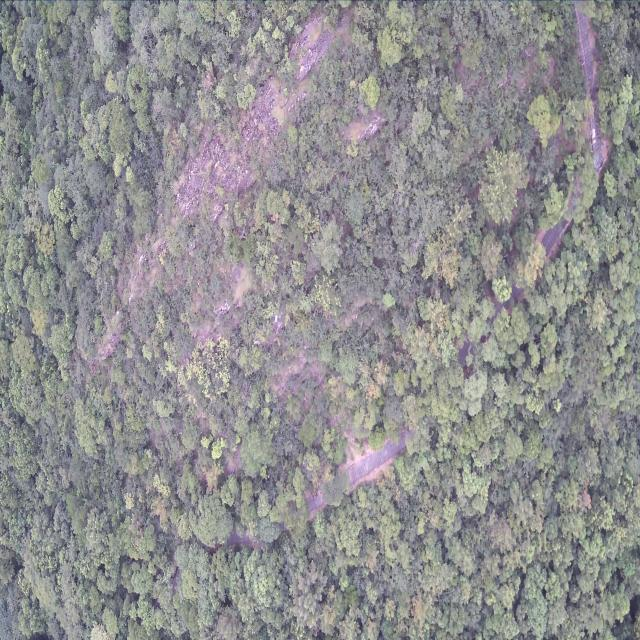UAV: (272, 314, 279, 324)
